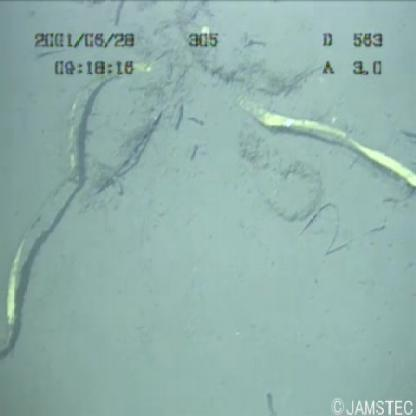Rác: (3, 6, 415, 374)
